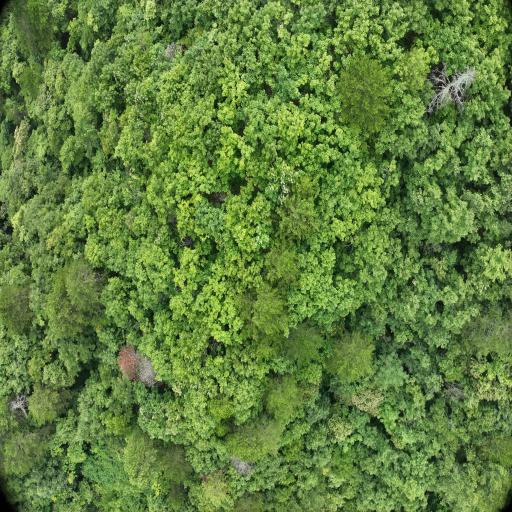dead-tree: (435, 72, 469, 97), (142, 361, 153, 383), (10, 400, 24, 412), (236, 462, 250, 471)
sick-tree: (123, 348, 135, 376)
